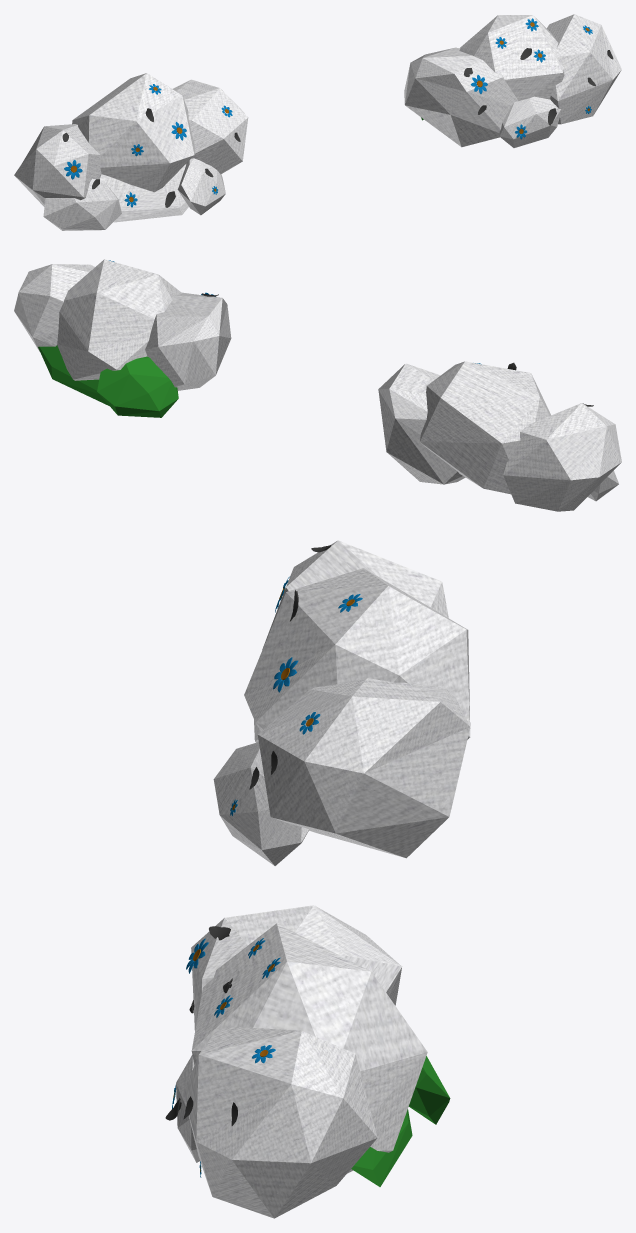
File: bushes2.fbx
The picture shows the model from 3 angles, top to bottom: view 1: azimuth 30°, elevation 25°; view 2: azimuth 150°, elevation 25°; view 3: azimuth 270°, elevation 25°; orthographic projection. The views are drawn at different scales.
Visible parts, largest first — view 1: Icosphere.001, Icosphere.009, Icosphere.007, Icosphere.008, Icosphere.002, Icosphere.003, Icosphere.005, Icosphere.004, Icosphere.011, Icosphere.006; view 2: Icosphere.001, Icosphere.007, Icosphere.002, Icosphere.009, Icosphere.003, Icosphere.008, Icosphere.012, Icosphere.010, Icosphere.005; view 3: Icosphere.003, Icosphere.008, Icosphere.007, Icosphere.001, Icosphere.009, Icosphere.006, Icosphere.002, Icosphere.012, Icosphere.010, Icosphere.011.
Part boxes in pixels (box(x1,y1,x2,y2)): Icosphere.001: box(72, 73, 195, 192); Icosphere.009: box(404, 47, 517, 147); Icosphere.007: box(459, 15, 564, 100); Icosphere.008: box(547, 14, 621, 124); Icosphere.002: box(14, 124, 101, 206); Icosphere.003: box(173, 79, 248, 174); Icosphere.005: box(43, 178, 121, 230); Icosphere.004: box(100, 164, 188, 222); Icosphere.011: box(499, 96, 561, 147); Icosphere.006: box(177, 158, 225, 215); Icosphere.001: box(420, 361, 550, 494); Icosphere.007: box(57, 259, 182, 380); Icosphere.002: box(503, 403, 621, 511); Icosphere.009: box(145, 292, 231, 390); Icosphere.003: box(378, 363, 465, 484); Icosphere.008: box(14, 264, 94, 351); Icosphere.012: box(97, 356, 178, 417); Icosphere.010: box(38, 345, 108, 405); Icosphere.005: box(588, 470, 618, 501); Icosphere.003: box(257, 678, 470, 858); Icosphere.008: box(183, 1027, 377, 1218); Icosphere.007: box(191, 923, 427, 1173); Icosphere.001: box(244, 568, 470, 739); Icosphere.009: box(191, 905, 401, 1030); Icosphere.006: box(213, 742, 309, 865); Icosphere.002: box(262, 540, 448, 649); Icosphere.012: box(408, 1056, 450, 1124); Icosphere.010: box(351, 1109, 412, 1186); Icosphere.011: box(176, 1055, 199, 1162).
Size of the model in its own units: 69.9 by 14.89 by 16.21.
Materials: 5 (1 with a texture image).
